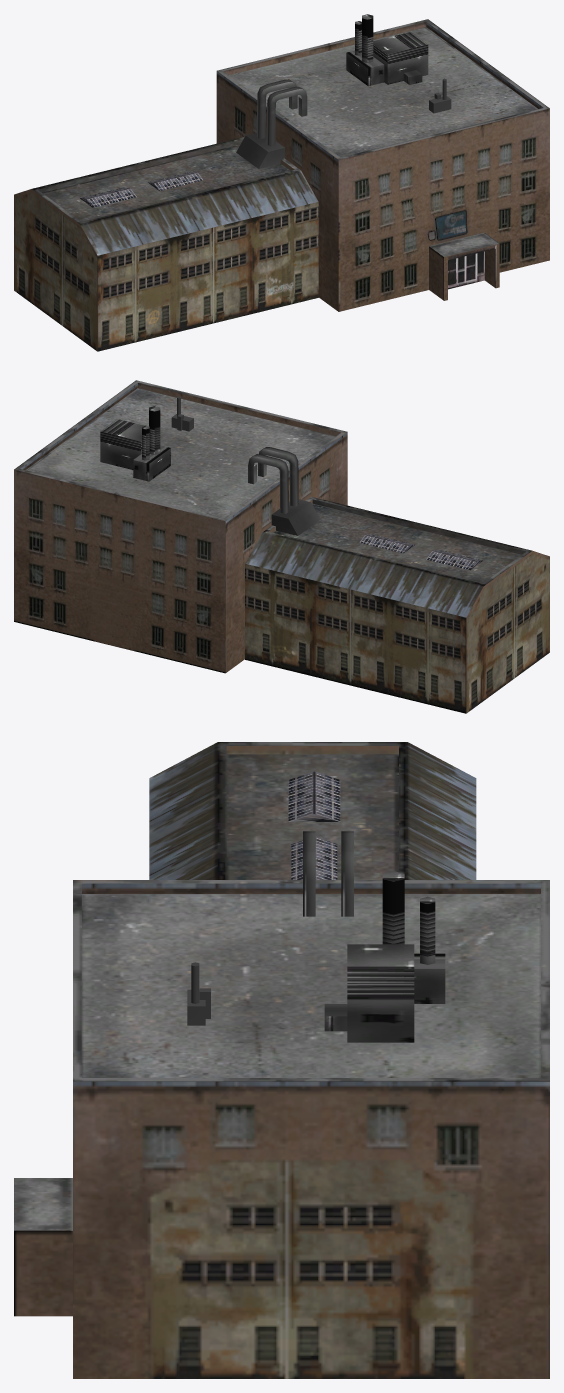
Rendered from Building2.gltf.
3 renders of one model, top to bottom at view 1: azimuth 30°, elevation 25°; view 2: azimuth 150°, elevation 25°; view 3: azimuth 270°, elevation 25°, orthographic. The views are drawn at different scales.
Parts seen in each view (by area): view 1: Box01, Box06, Box02, Box05; view 2: Box01, Box06, Box02; view 3: Box01, Box06, Box02, Box05.
Part boxes in pixels (box(x1,y1,x2,y2)): Box01: box(14, 19, 549, 351); Box06: box(346, 14, 428, 86); Box02: box(236, 79, 307, 168); Box05: box(429, 78, 451, 113); Box01: box(14, 380, 549, 713); Box06: box(100, 406, 170, 481); Box02: box(248, 447, 320, 535); Box01: box(14, 742, 549, 1378); Box06: box(324, 871, 445, 1042); Box02: box(303, 831, 353, 916); Box05: box(187, 962, 210, 1025).
Bounding box in the file's own units: 58.27 × 26.75 × 31.96.
2 materials, 2 textured.
